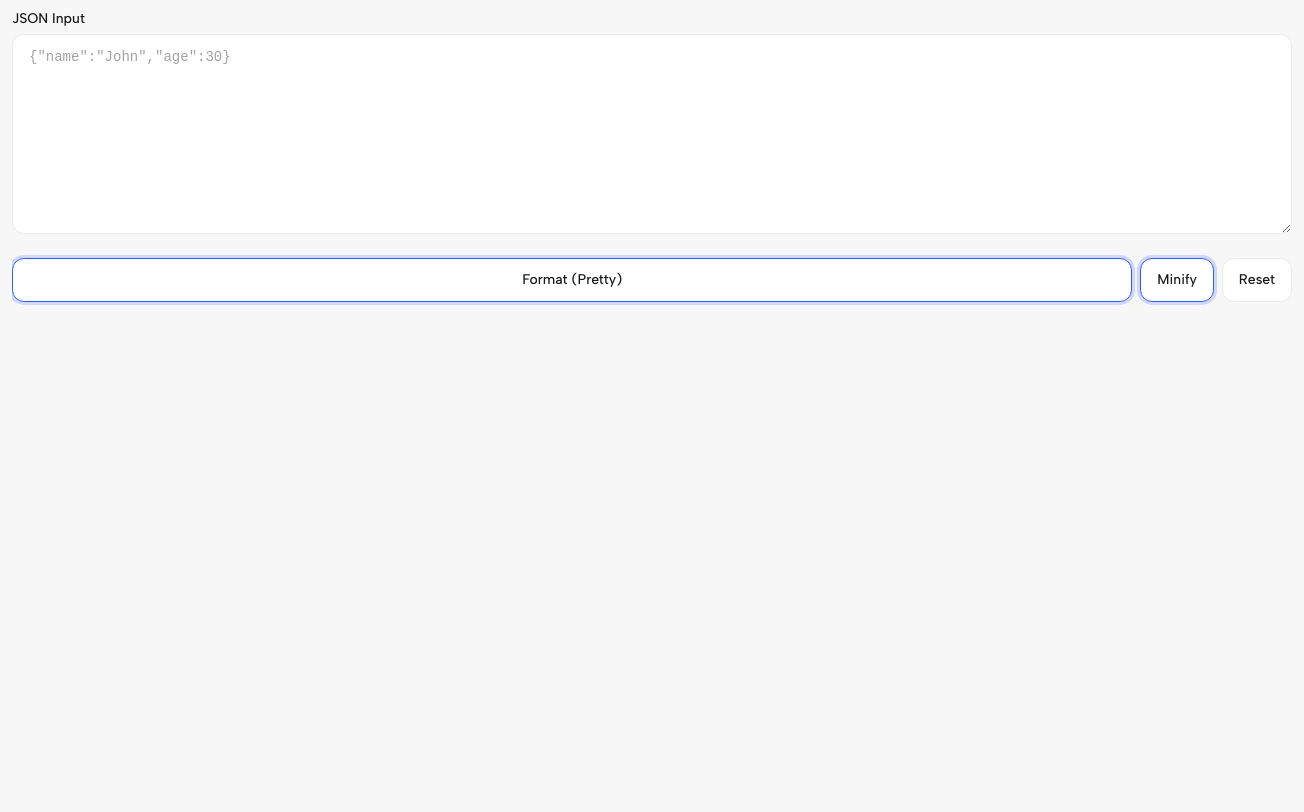
JsonFormatterTool › formats array JSON
Type "[1,2,3,4,5]" into the text box with placeholder "{\"name\":\"John\",\"age\":30}".
click(652, 134); type("[1,2,3,4,5]")  # box [12,34,1292,234]
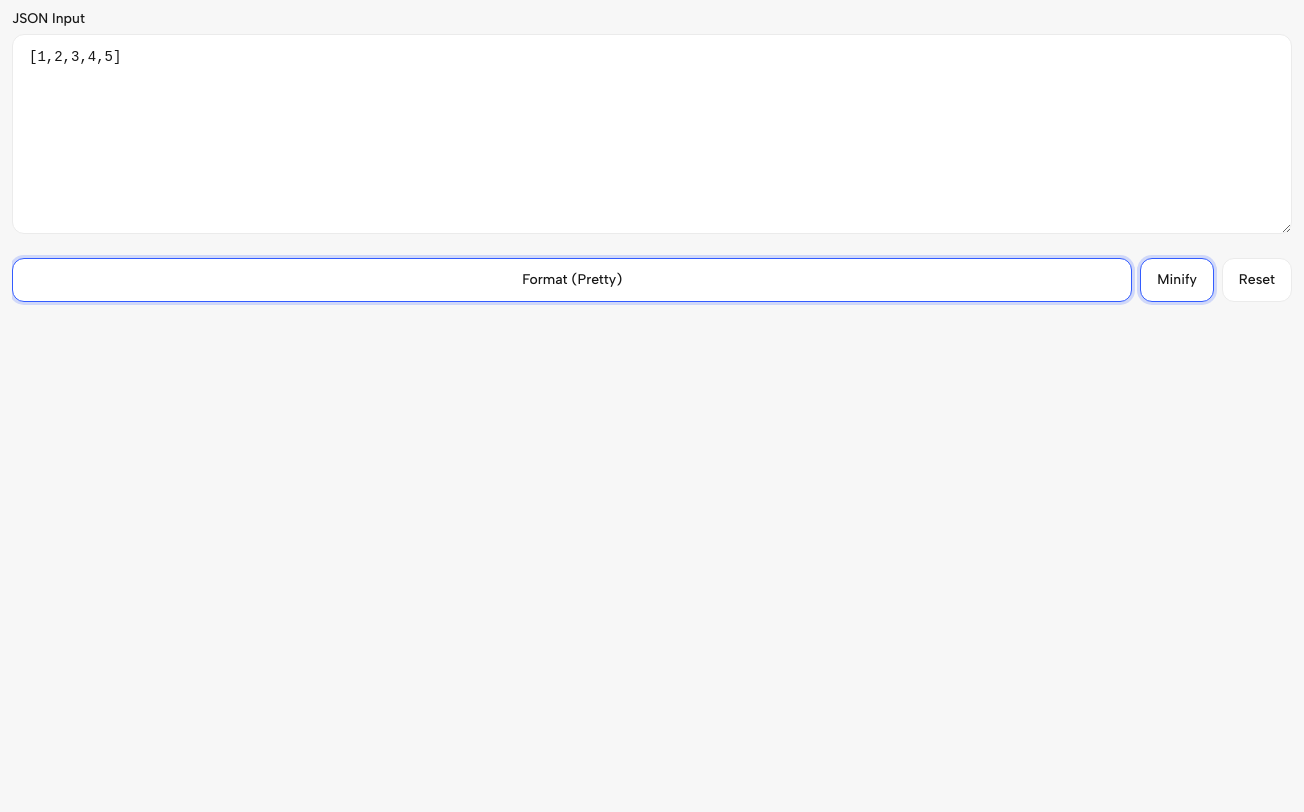
Click the button "Format (Pretty)".
click(572, 280)  # box [12,258,1132,302]
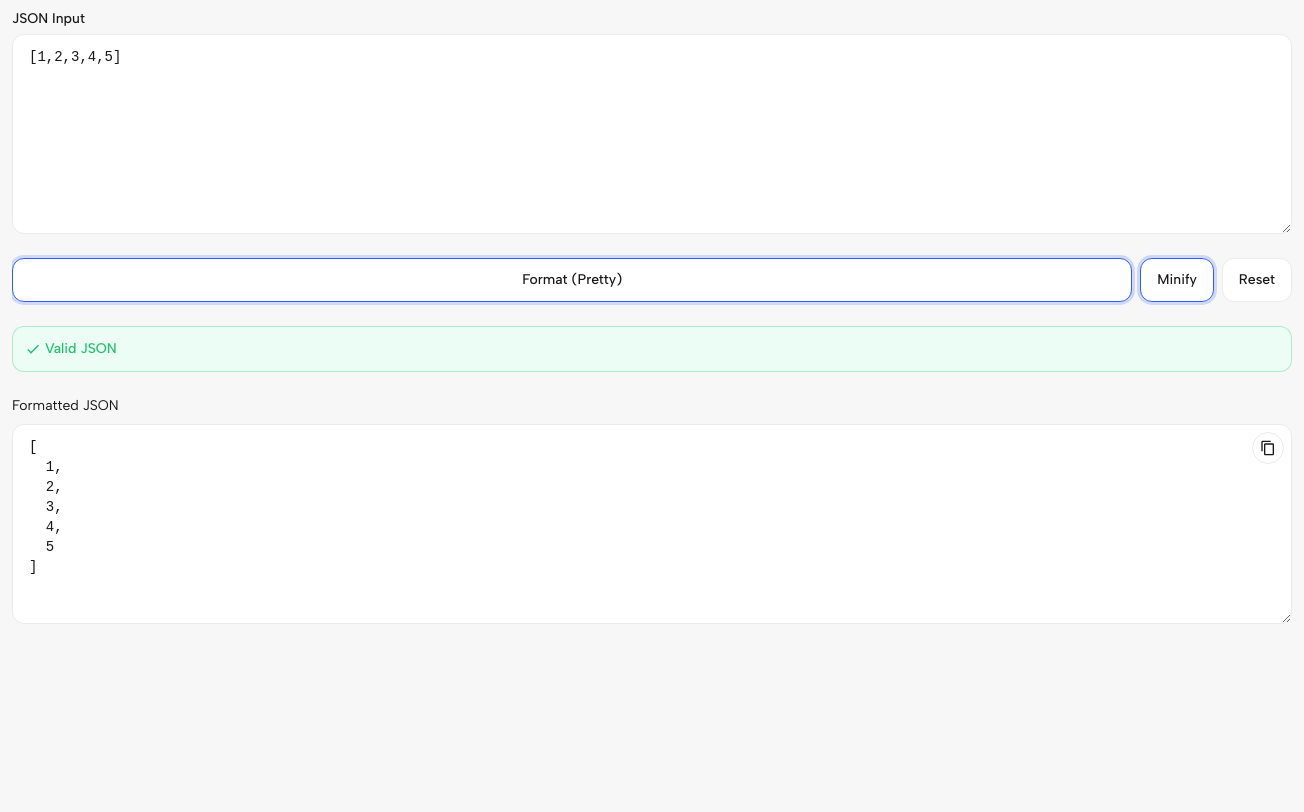
Expected: the text "Valid JSON" is shown, [25,340,117,357]
